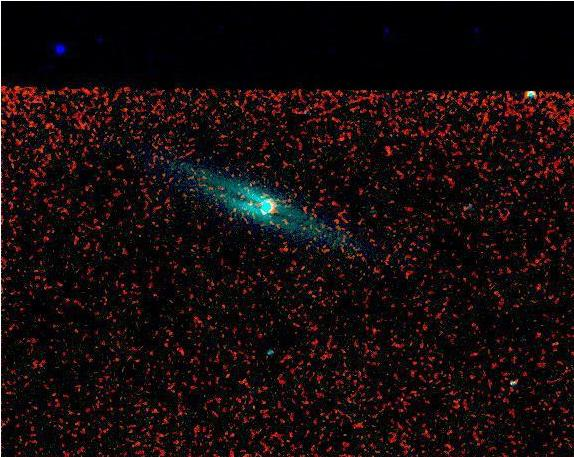star: (369, 134, 399, 164)
